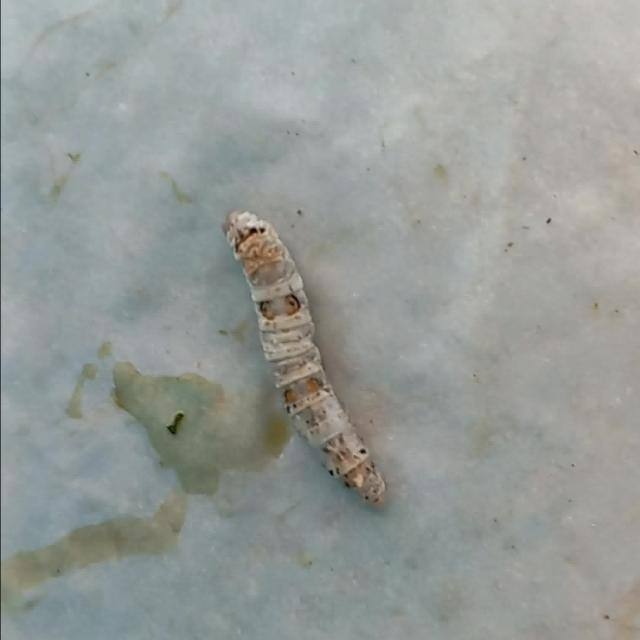Grasserie: (212, 188, 401, 524)
